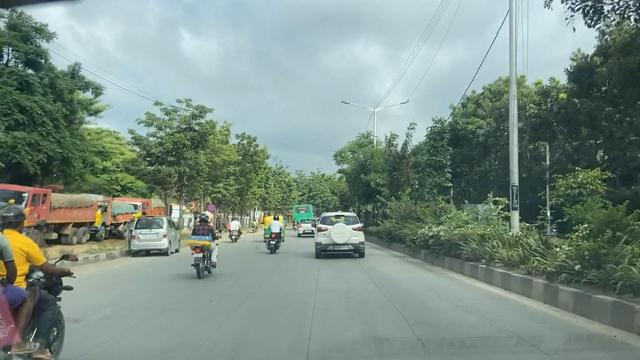LMV: (0, 199, 117, 360), (309, 207, 373, 266), (120, 210, 184, 259), (187, 211, 225, 279), (258, 212, 288, 275)
